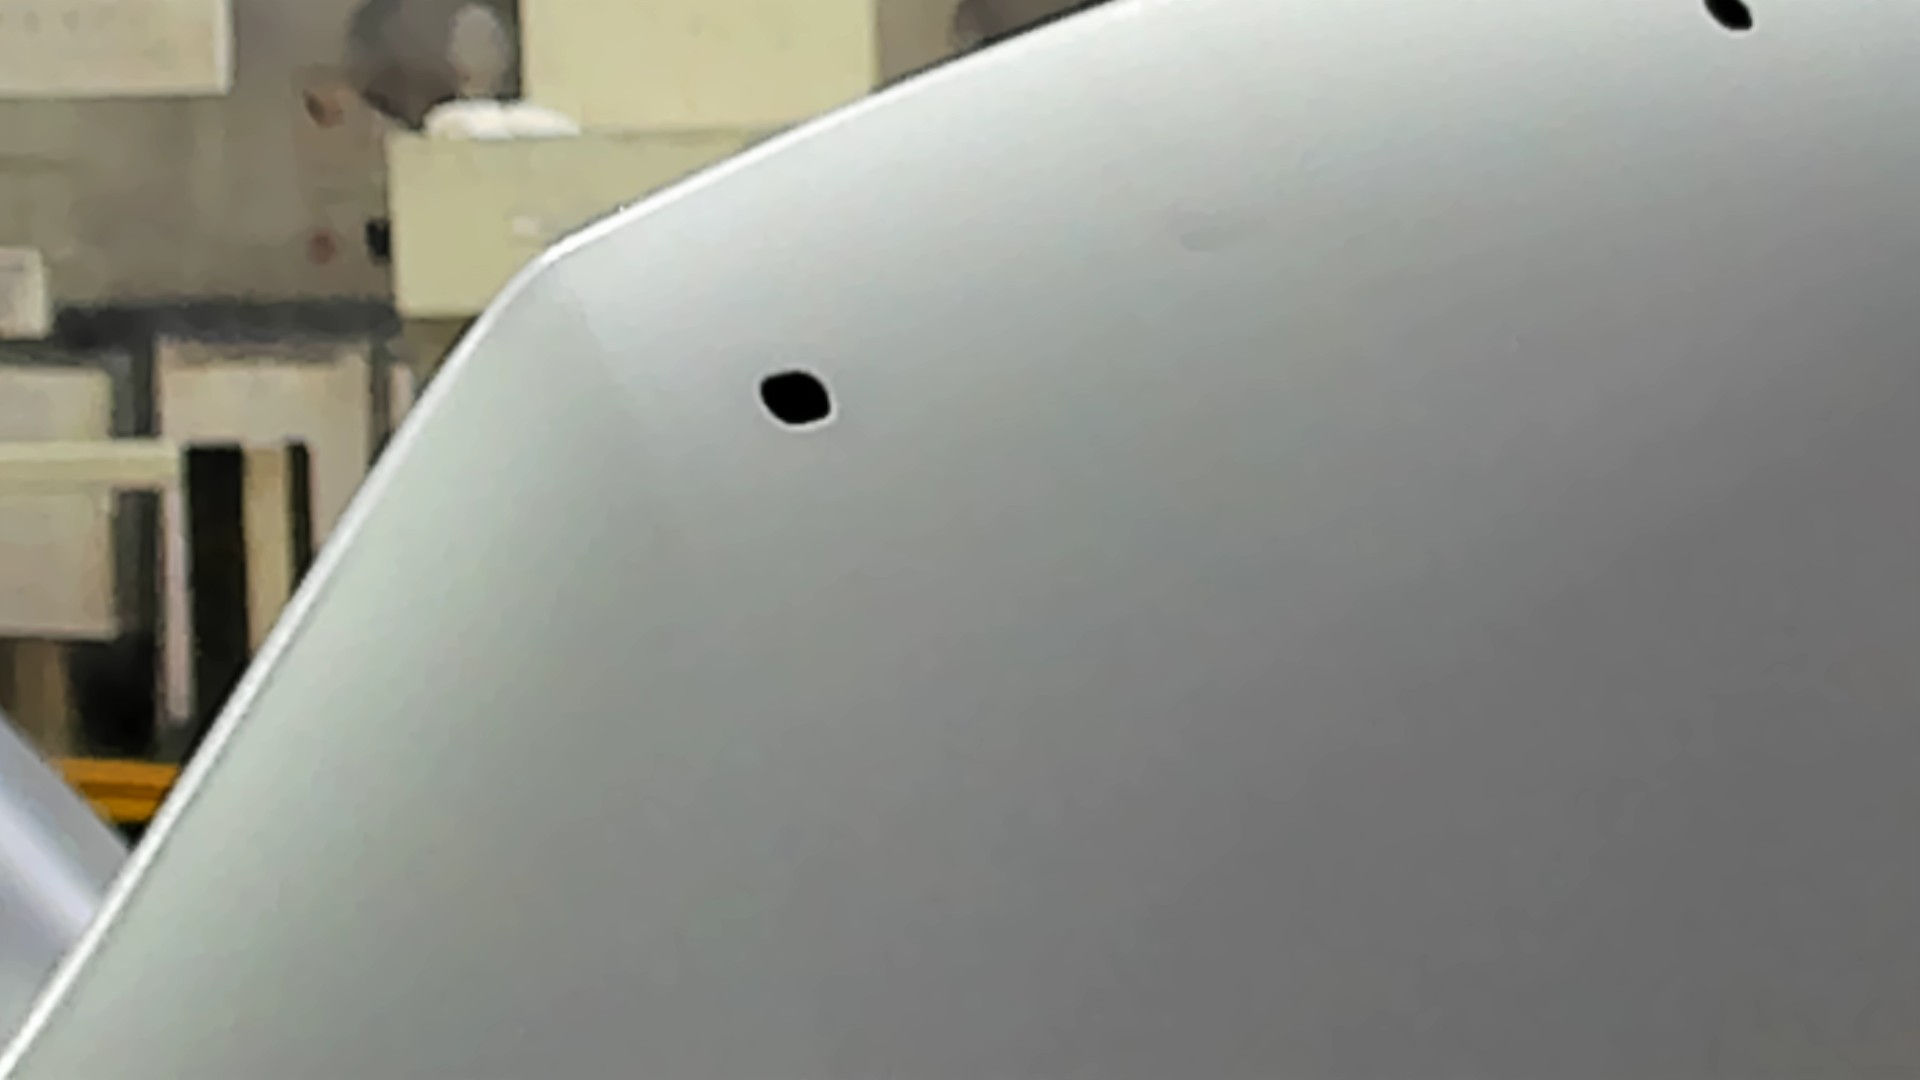amorfo: (757, 367, 841, 433), (1704, 1, 1760, 37)
